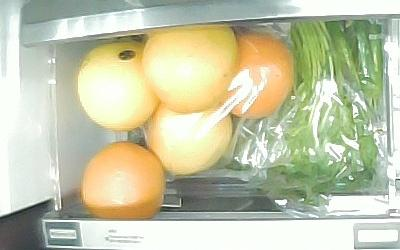grapefruit: (140, 27, 238, 112), (77, 42, 160, 133), (81, 142, 165, 222)
grapefruit_vinyl: (142, 96, 234, 177), (226, 32, 296, 120)
